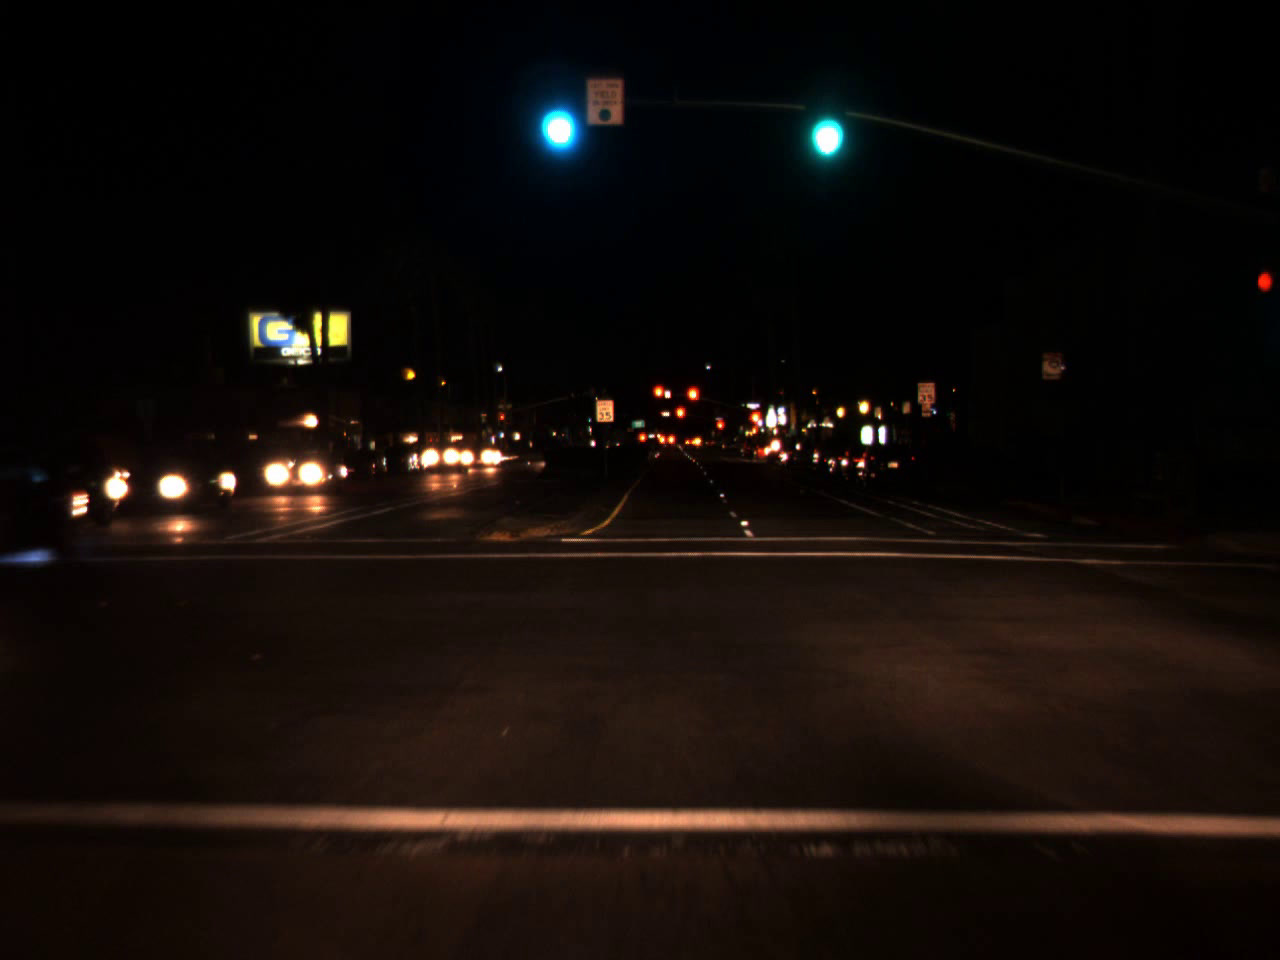go: (801, 81, 846, 168), (536, 82, 575, 154)
stop: (685, 385, 700, 417), (748, 410, 763, 439), (651, 383, 666, 410), (715, 417, 725, 441), (676, 408, 683, 424), (499, 414, 505, 424)
